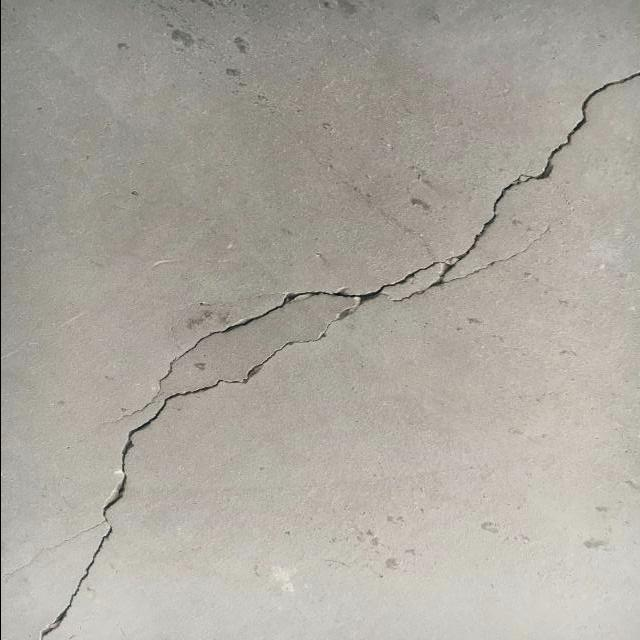SurfaceCrack: (1, 21, 640, 640)
